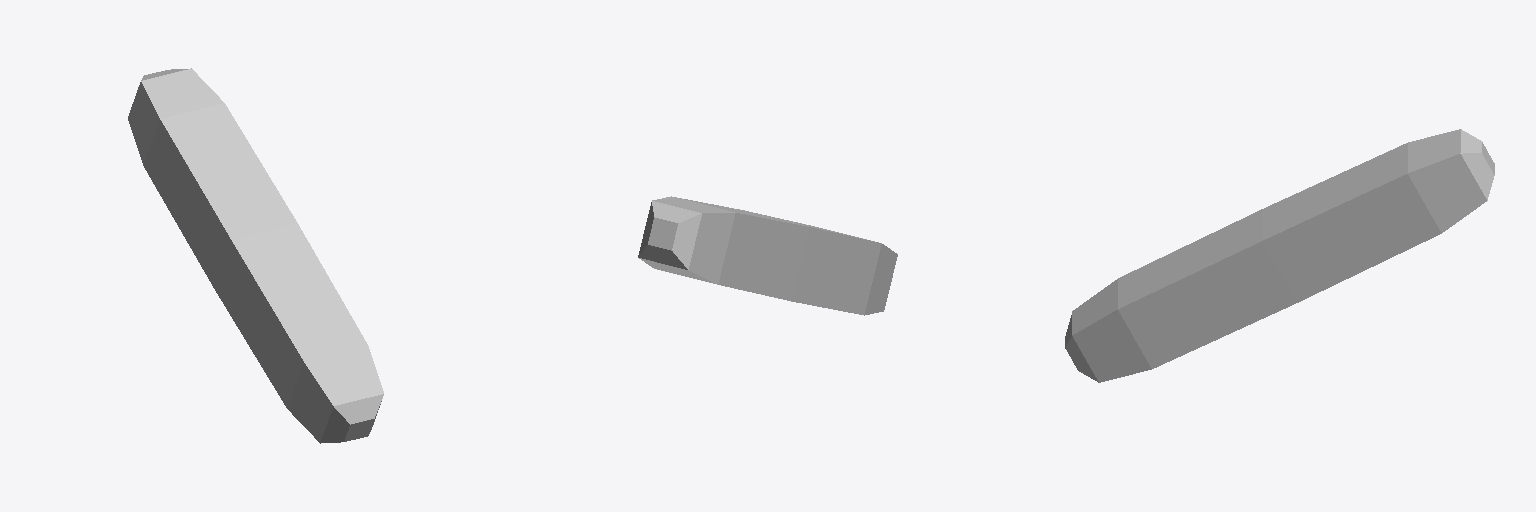
File: RightFoot.obj
3 renders of one model, left to right at view 1: azimuth 30°, elevation 25°; view 2: azimuth 150°, elevation 25°; view 3: azimuth 270°, elevation 25°, orthographic.
Visible parts, largest first — view 1: ../rami/model/RightFoot; view 2: ../rami/model/RightFoot; view 3: ../rami/model/RightFoot.
Part boxes in pixels (left/top/right/bottom): ../rami/model/RightFoot: left=128, top=68, right=383, bottom=443; ../rami/model/RightFoot: left=638, top=196, right=897, bottom=315; ../rami/model/RightFoot: left=1065, top=129, right=1494, bottom=382.
Size of the model in its own units: 0.0158 by 0.0519 by 0.0877.